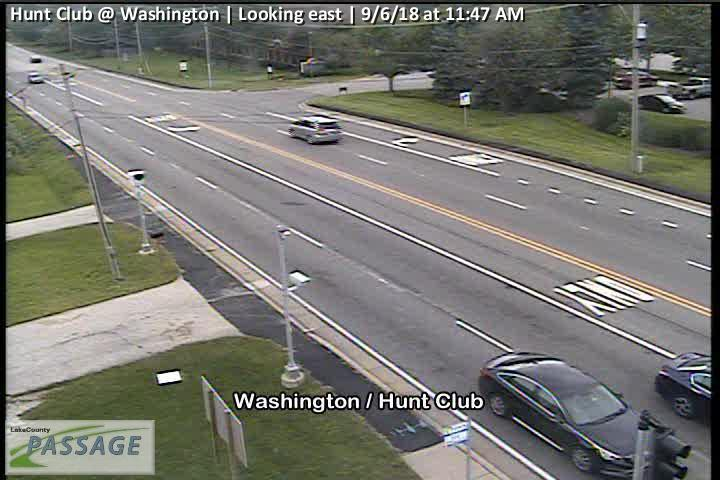SUV: (286, 115, 343, 142)
Sedan: (477, 350, 668, 479), (640, 93, 686, 114), (613, 69, 658, 88), (27, 71, 44, 84)
Truck: (664, 74, 710, 99)
